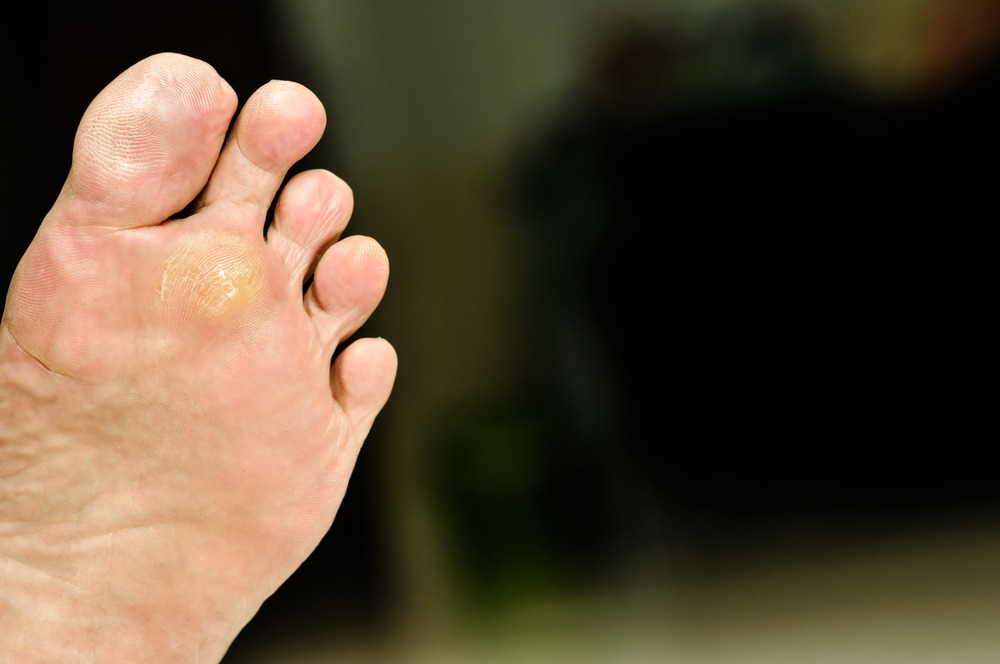Warts: (137, 224, 282, 348)
